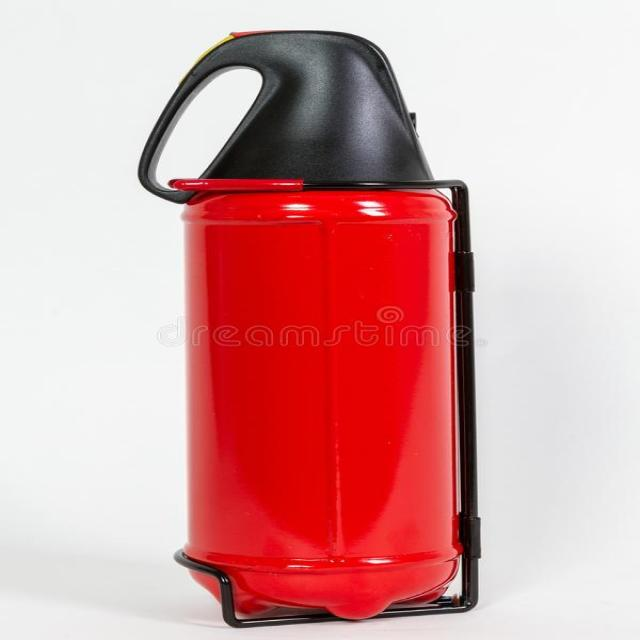fire_extinguisher: (124, 24, 481, 624)
